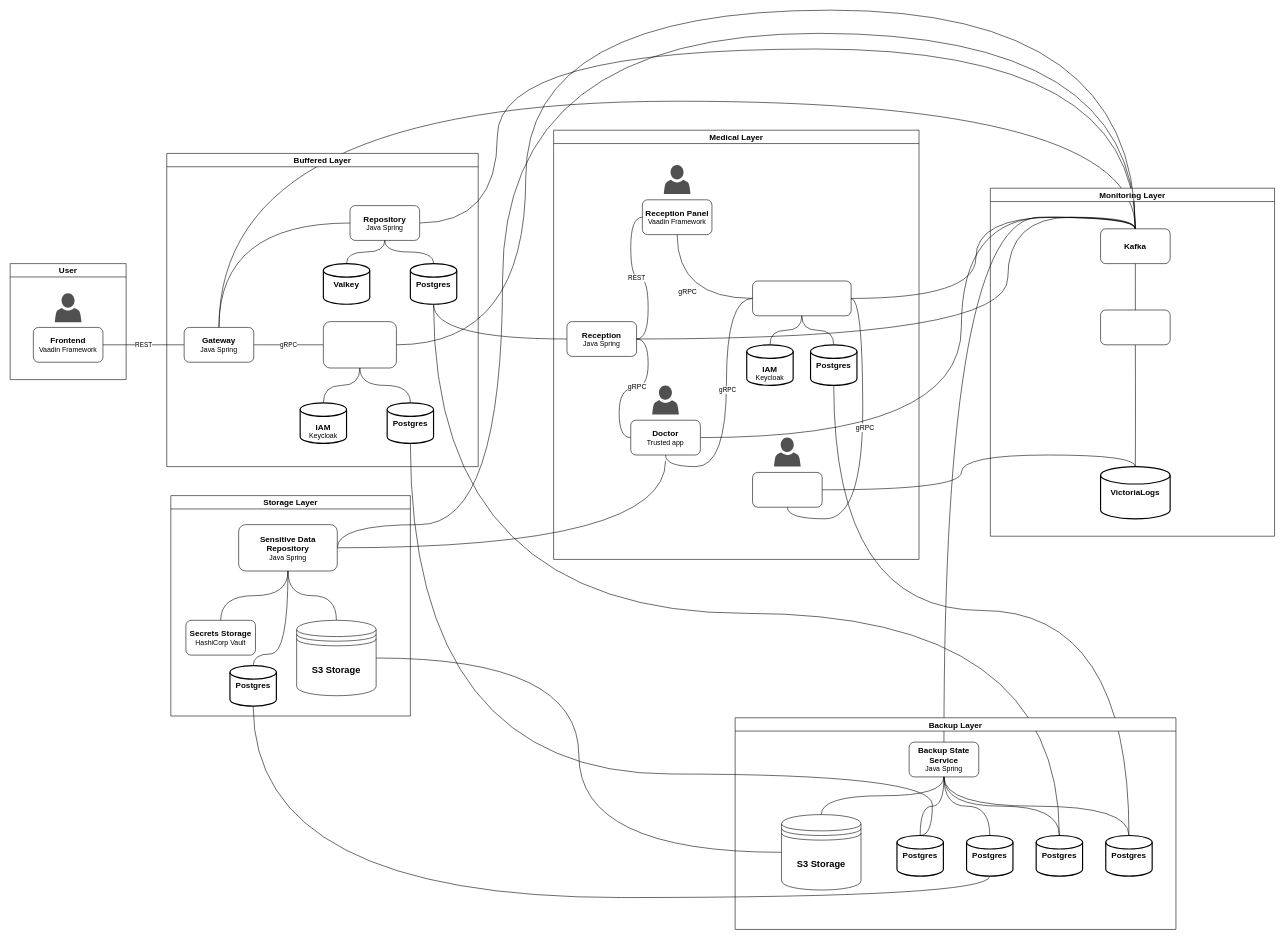
The diagram is 1285 pixels wide and 940 high, and some of its shapes have lost their labels. The centre of each missing label's shape, as x and y in pixels:
"Admin Panel Grafana + Prometheus" belongs at (x=787, y=489).
"Authentication Manager Java Spring" belongs at (x=359, y=344).
"Local Authentication Manager Java Spring" belongs at (x=801, y=298).
"Vector Logs collecting and processing" belongs at (x=1135, y=327).
